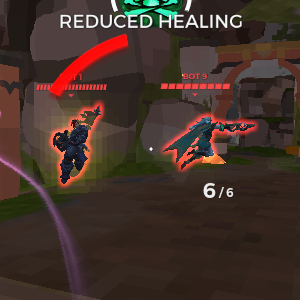model: (59, 113, 93, 180), (178, 110, 213, 169)
